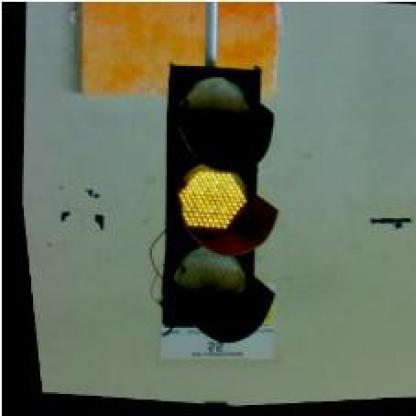yellow: (132, 57, 300, 350)
